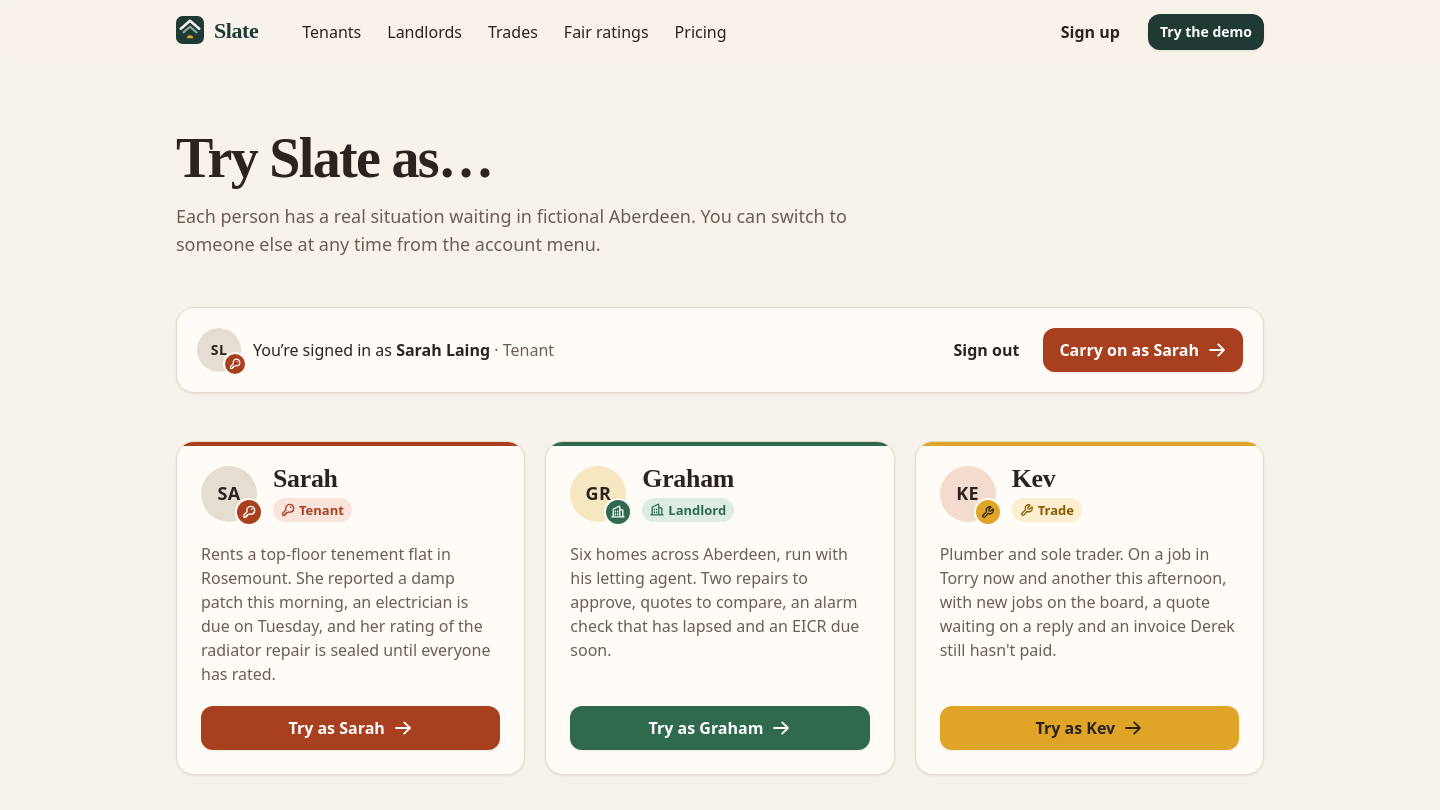
it: persona picker at /start › someone already signed in can carry on or sign out
Expected: the text "You’re signed in as Sarah Laing · Tenant" is shown, [253,338,554,362]
Click the button "Sign out" at (986, 350), box [938,328,1035,372]
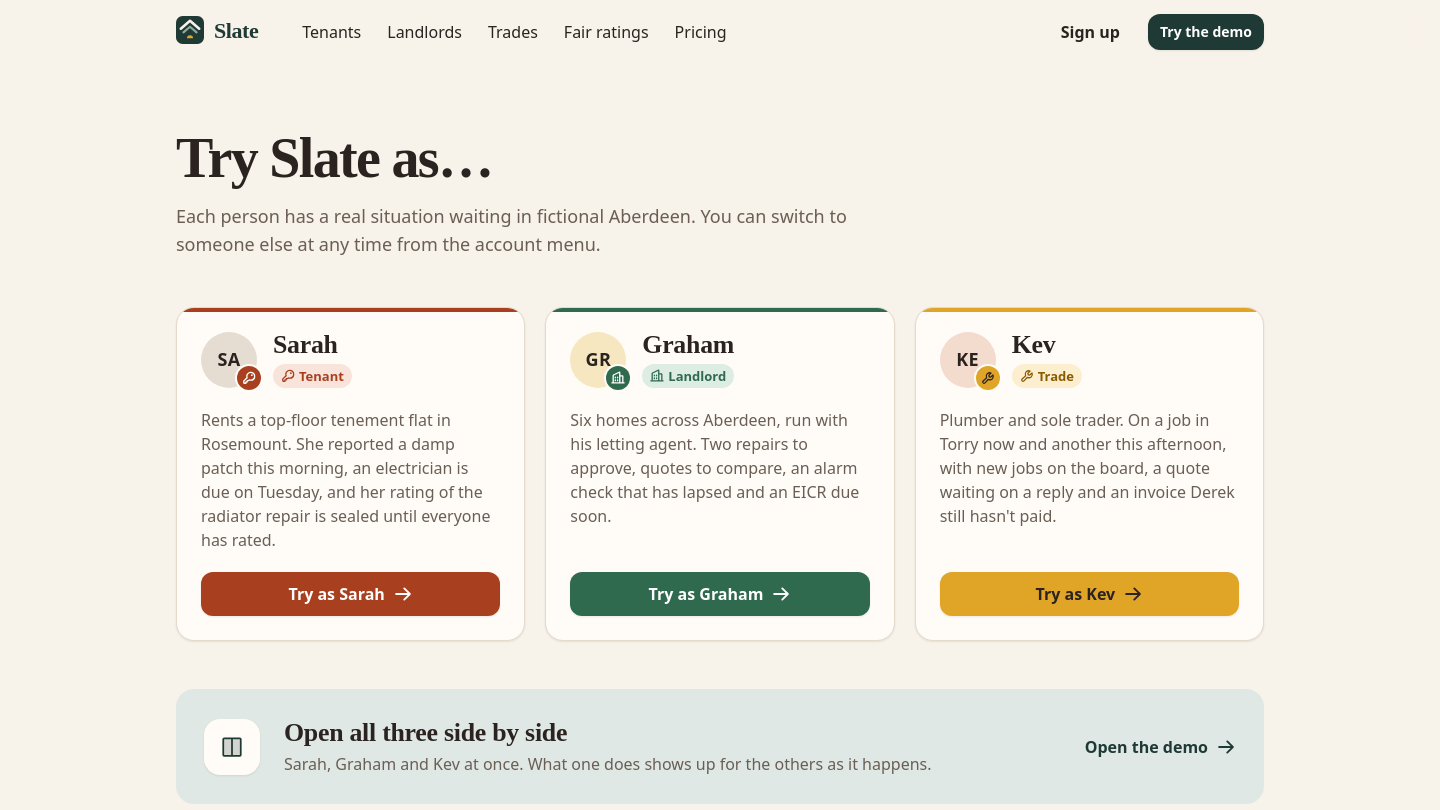
Expected: the text "You’re signed in as" is gone
